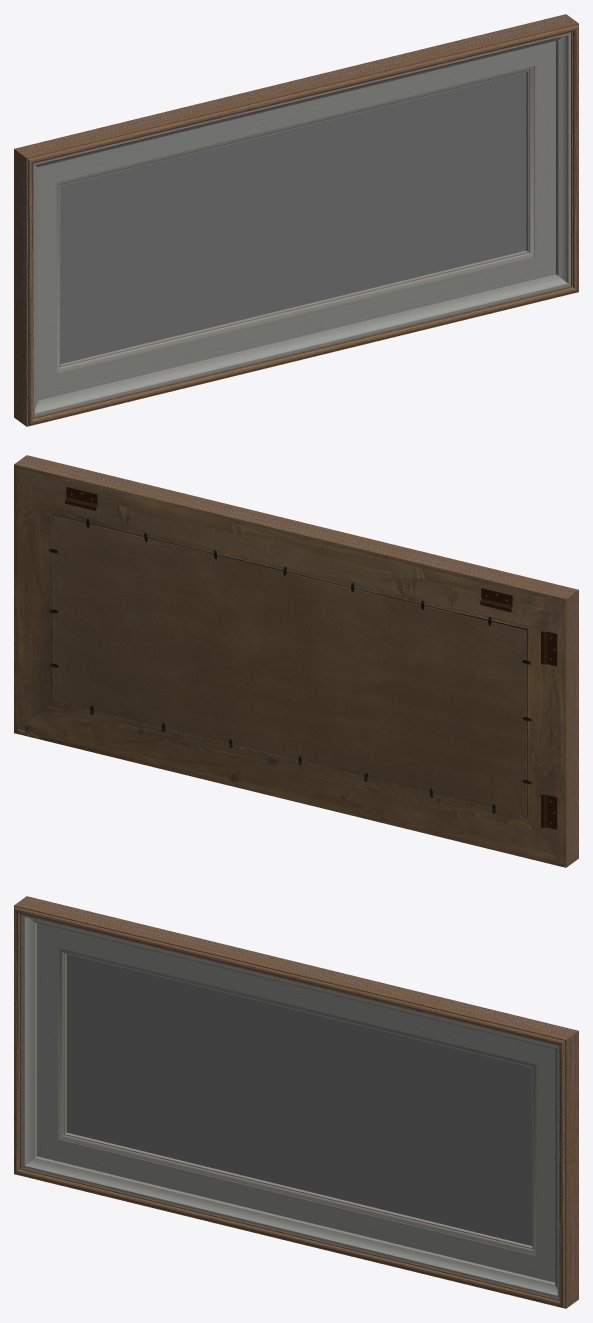
File: W02 - MFM200 - Sketchfab - mesh.obj
3 renders of one model, top to bottom at view 1: azimuth 30°, elevation 25°; view 2: azimuth 150°, elevation 25°; view 3: azimuth 330°, elevation 25°, orthographic.
Parts seen in each view (by area): view 1: MFM2.mirror, MFM2.paint, MSM2.wood; view 2: MFM2.back_MFSM2.back, MSM2.wood, MFM2.metal; view 3: MFM2.mirror, MFM2.paint, MSM2.wood.
Part boxes in pixels (x1=…): MFM2.mirror: x1=60, y1=72, x2=526, y2=363; MFM2.paint: x1=33, y1=33, x2=570, y2=416; MSM2.wood: x1=14, y1=14, x2=578, y2=426; MFM2.back_MFSM2.back: x1=14, y1=464, x2=566, y2=867; MSM2.wood: x1=14, y1=455, x2=578, y2=867; MFM2.metal: x1=65, y1=487, x2=557, y2=829; MFM2.mirror: x1=66, y1=954, x2=532, y2=1245; MFM2.paint: x1=22, y1=915, x2=559, y2=1298; MSM2.wood: x1=14, y1=896, x2=578, y2=1308.
Size of the model in its own units: 157 by 73 by 7.8.
Materials: 5 (3 with a texture image).
